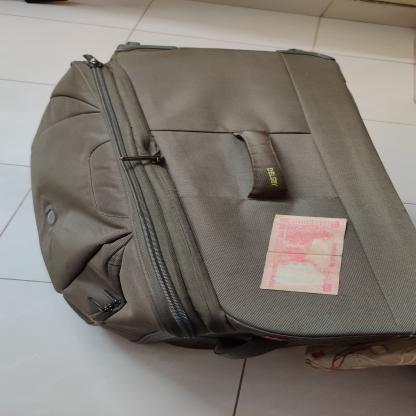Old20Back: (260, 214, 348, 295)
